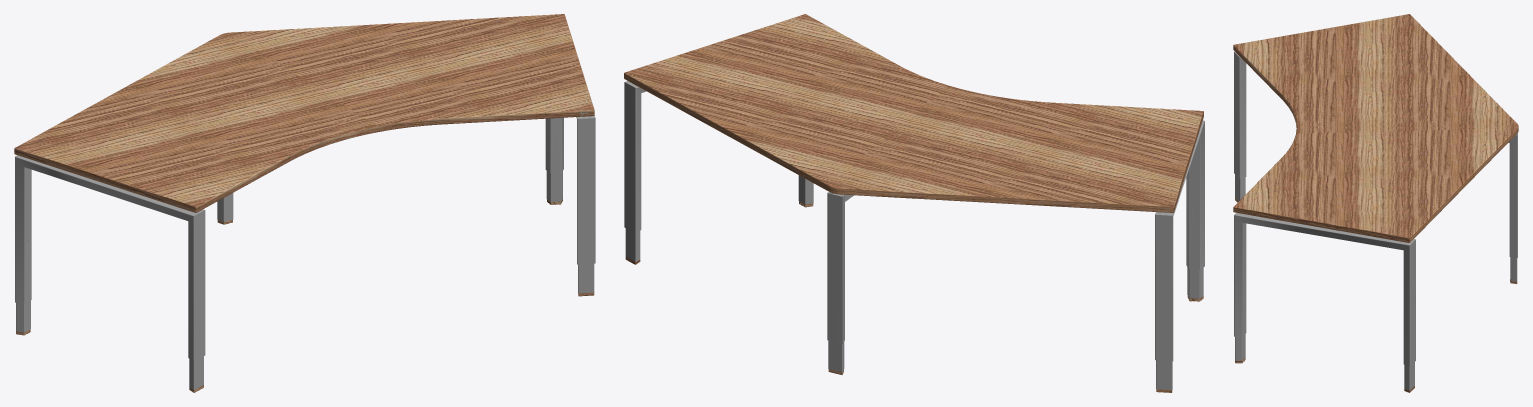
File: trion_table_form22_222x120_finala_pUV.fbx
3 views of the same model, side by side, from view 1: azimuth 30°, elevation 25°; view 2: azimuth 150°, elevation 25°; view 3: azimuth 270°, elevation 25° (orthographic). The views are drawn at different scales.
Visible parts, largest first — view 1: blat_mesh, metal_mesh; view 2: blat_mesh, metal_mesh; view 3: blat_mesh, metal_mesh.
Part boxes in pixels (x1,y1,x2,y2): blat_mesh: [14, 14, 594, 212]; metal_mesh: [15, 112, 595, 389]; blat_mesh: [624, 14, 1203, 212]; metal_mesh: [624, 81, 1204, 389]; blat_mesh: [1233, 14, 1518, 242]; metal_mesh: [1234, 51, 1517, 390].
Size of the model in its own units: 222 by 72 by 119.
